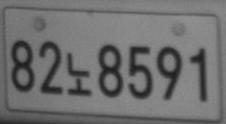1: (187, 47, 214, 102)
2: (38, 40, 63, 94)
5: (128, 46, 153, 98)
8: (98, 43, 124, 97), (10, 39, 35, 92)
9: (156, 45, 182, 100)
노: (66, 51, 92, 96)
